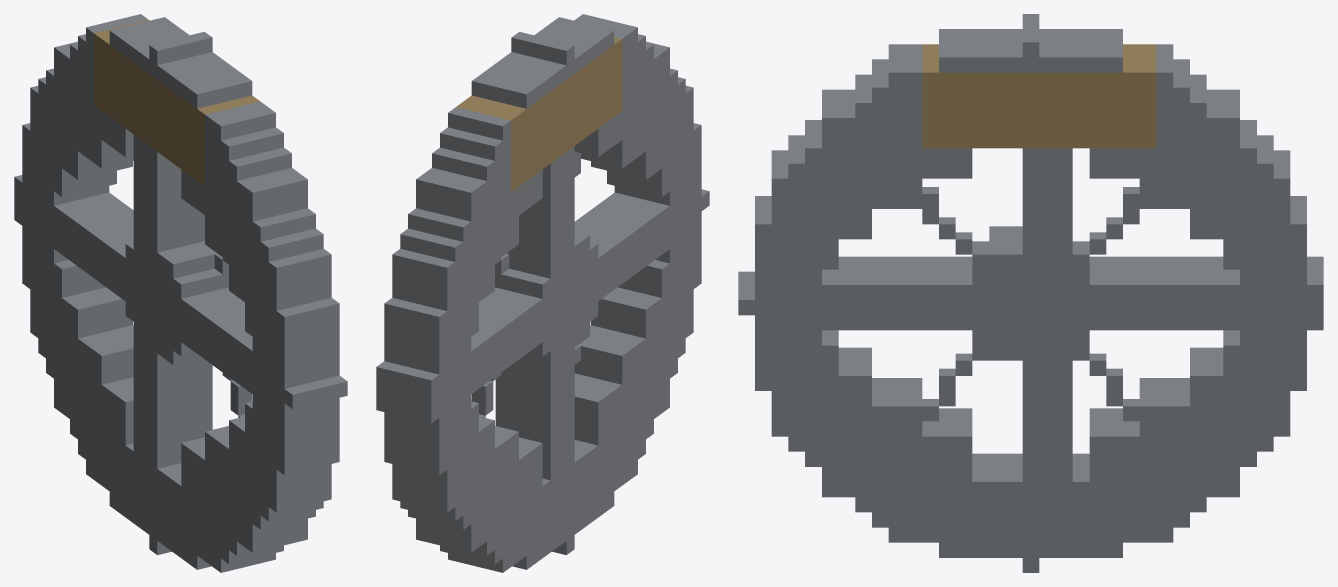
File: flywheel.glb
3 views of the same model, side by side, from view 1: azimuth 30°, elevation 25°; view 2: azimuth 150°, elevation 25°; view 3: azimuth 270°, elevation 25° (orthographic). The views are drawn at different scales.
Size of the model in its own units: 4 by 35 by 35.
